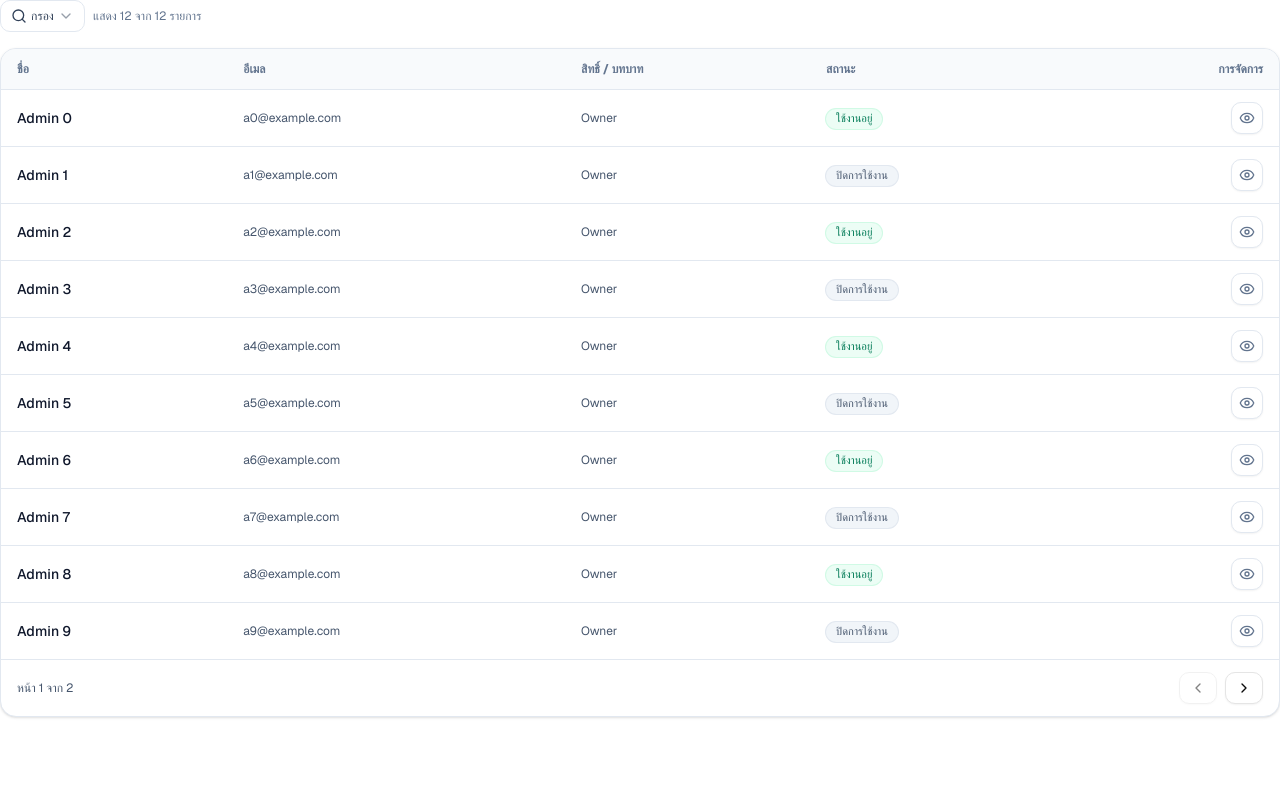
Test: AdminsList › filters rows via the search box
This screenshot has width=1280, height=800.
Note: The filter panel is collapsed by default — open it to reveal the search box.
Click the button with aria-label "ค้นหาและกรองขั้นสูง" at (42,16), box top-left (0, 0), bottom-right (85, 32)
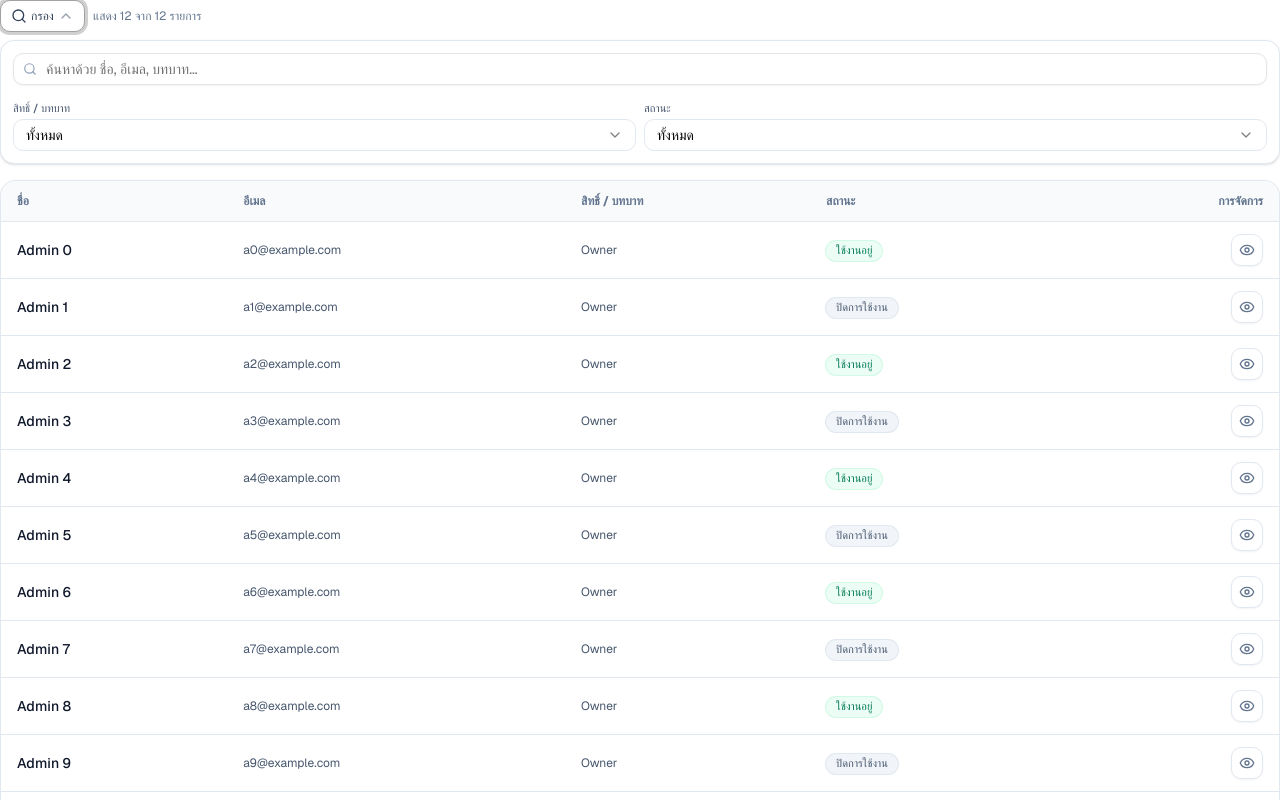
Type "Admin 5" into the field with placeholder "ค้นหาด้วย ชื่อ, อีเมล, บทบาท..." at (640,69), box top-left (13, 53), bottom-right (1267, 85)
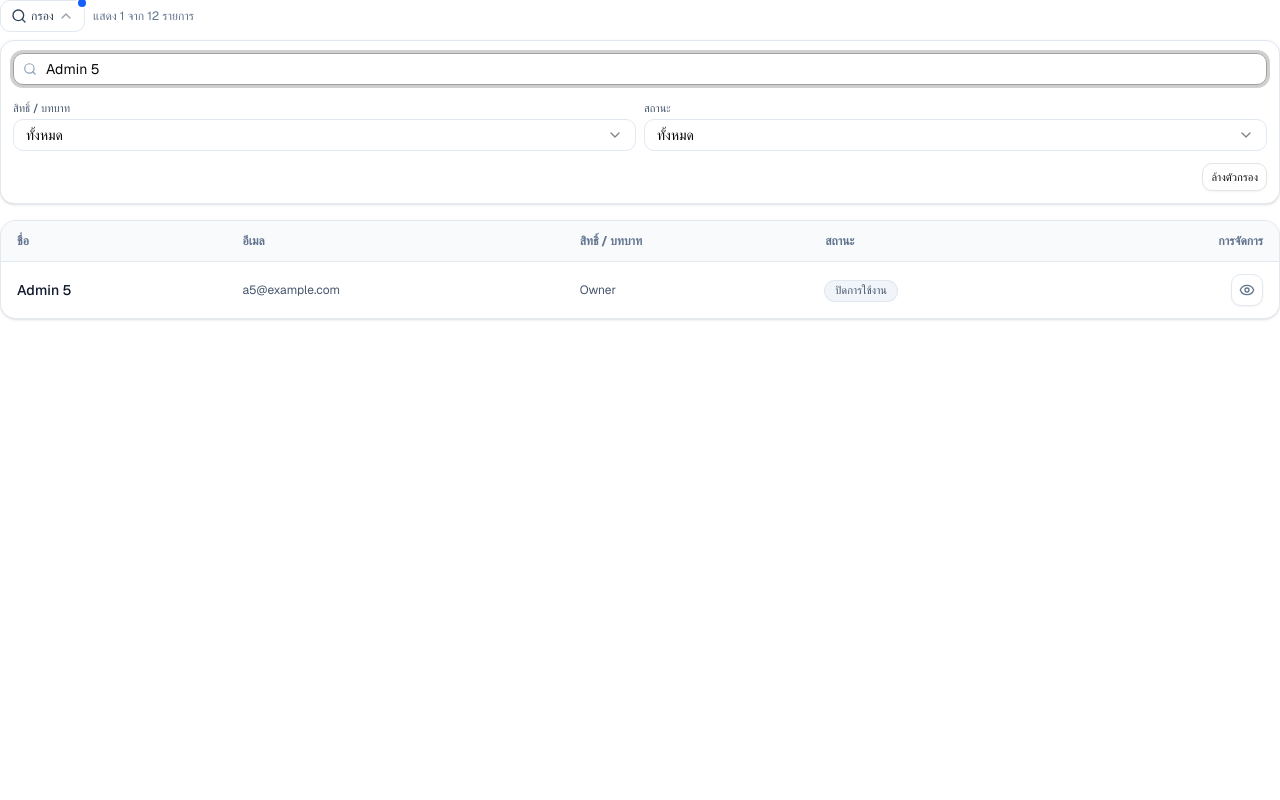
Expected: the text "Admin 5" is shown, top-left (1, 262), bottom-right (226, 318)
Result: the text "Admin 4" is gone
